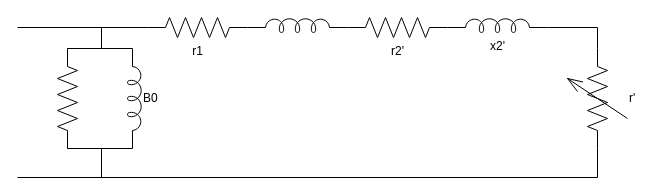
The diagram is 653 pixels wide and 196 high, and some of its shapes have lost their labels. Each missing label, with the centre of its shape:
"G0" belongs at point (67, 98).
"x1" belongs at point (297, 25).
